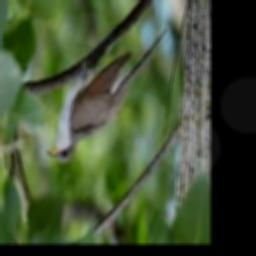Cuckoo: (46, 28, 170, 163)
